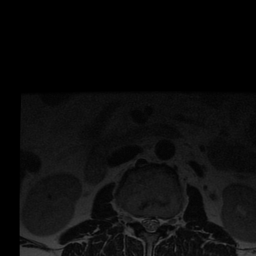CCS_stenosis: (146, 210, 152, 237)
LFS_stenosis: (160, 210, 168, 233)
LLS_normal: (153, 210, 160, 235)
RFS_stenosis: (130, 208, 138, 228)
RLS_normal: (138, 209, 146, 232)
